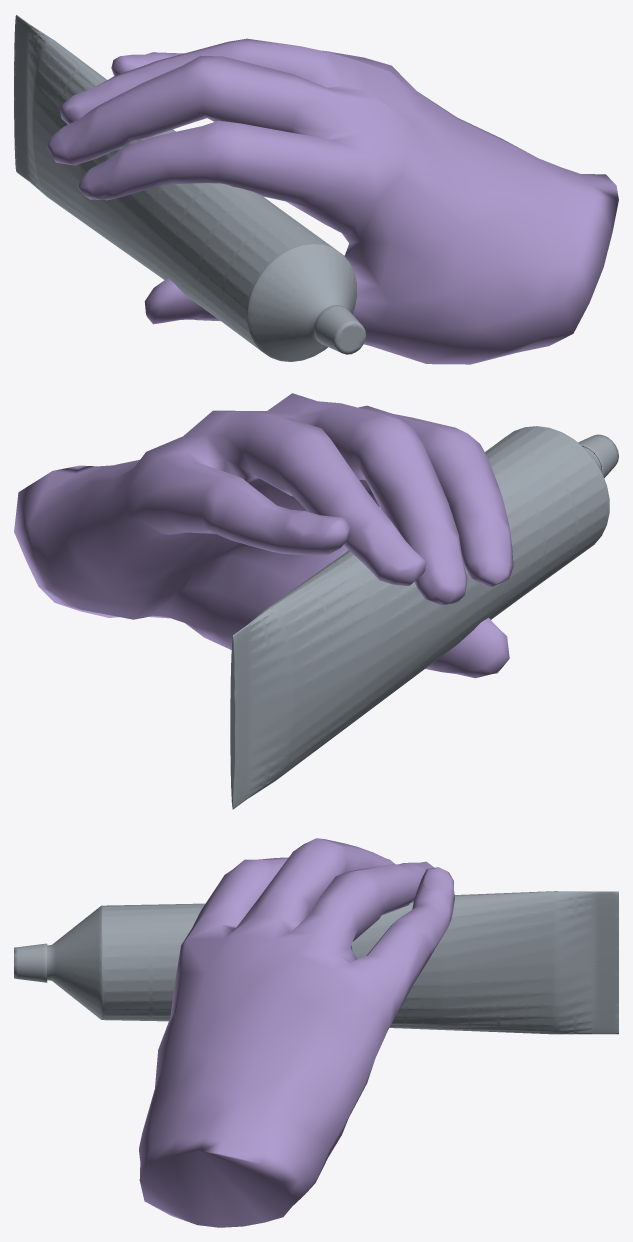
File: grasp_1.glb
3 renders of one model, top to bottom at view 1: azimuth 30°, elevation 25°; view 2: azimuth 150°, elevation 25°; view 3: azimuth 270°, elevation 25°, orthographic. The views are drawn at different scales.
Size of the model in its own units: 0.1688 by 0.0989 by 0.202.
